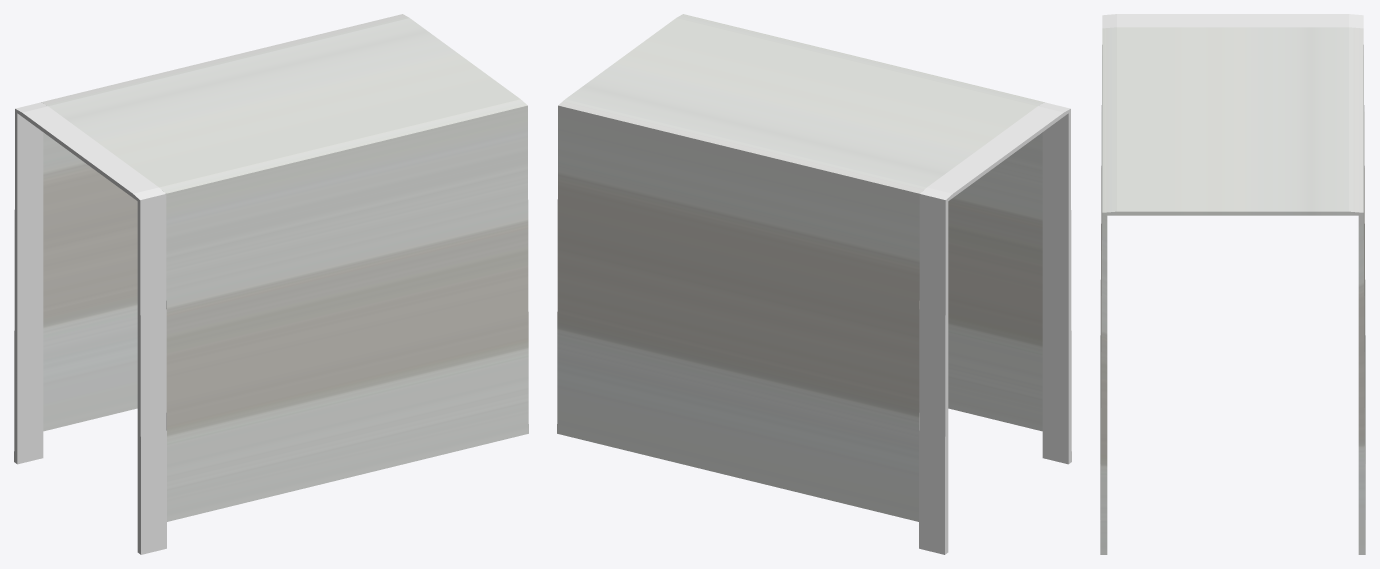
The model's file is PartyRoomHallway.fbx.
The picture shows the model from 3 angles, left to right: view 1: azimuth 30°, elevation 25°; view 2: azimuth 150°, elevation 25°; view 3: azimuth 270°, elevation 25°; orthographic projection. The views are drawn at different scales.
Visible parts, largest first — view 1: Doorway__1_, Doorway; view 2: Doorway__1_, Doorway; view 3: Doorway__1_, Doorway.
Part boxes in pixels (x1,y1,x2,y2): Doorway__1_: (41, 14, 528, 521); Doorway: (14, 102, 166, 554); Doorway__1_: (557, 14, 1044, 521); Doorway: (919, 102, 1071, 554); Doorway__1_: (1100, 27, 1365, 554); Doorway: (1101, 14, 1364, 167).
Bounding box in the file's own units: 502 × 440 × 285.
2 materials, 1 textured.
